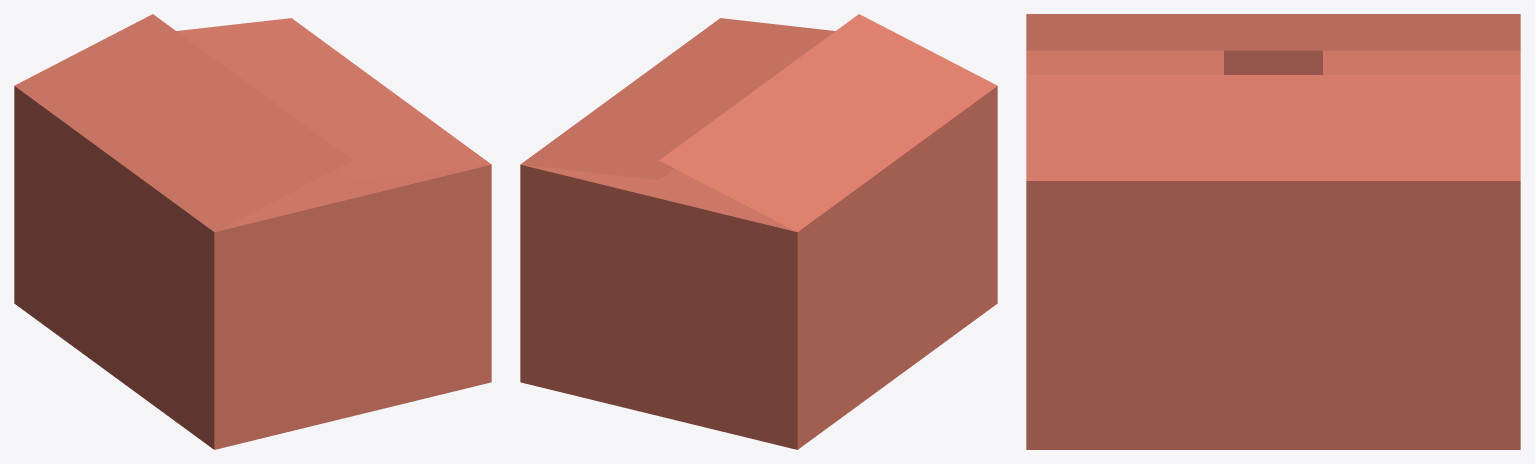
3 views of the same model, side by side, from view 1: azimuth 30°, elevation 25°; view 2: azimuth 150°, elevation 25°; view 3: azimuth 270°, elevation 25° (orthographic). The views are drawn at different scales.
Parts seen in each view (by area): view 1: box; view 2: box; view 3: box.
Part boxes in pixels (x1,y1,x2,y2): box: (14, 14, 491, 449); box: (520, 14, 997, 449); box: (1026, 14, 1520, 449).
Size of the model in its own units: 0.4 by 0.3522 by 0.5.
